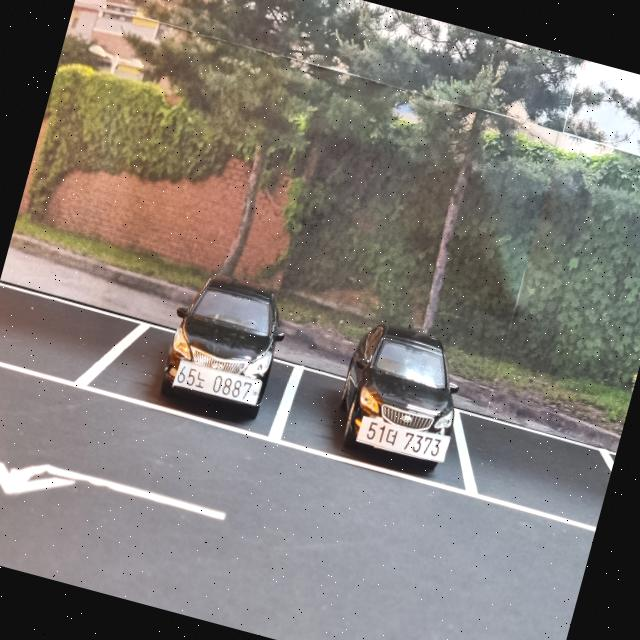empty: (454, 406, 618, 535), (0, 274, 135, 402)
occupied: (114, 242, 320, 448), (292, 302, 495, 478)
